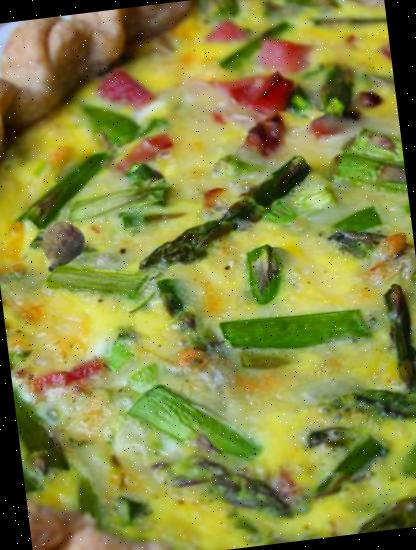Beetroot: (24, 214, 94, 284)
